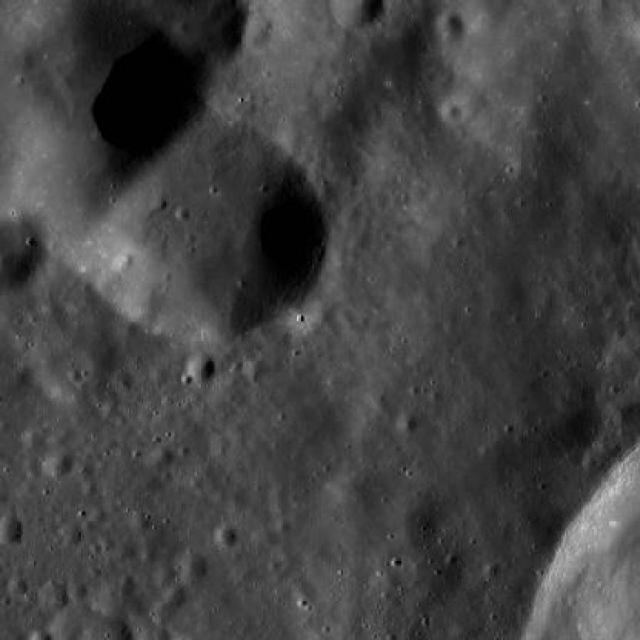crater: (82, 119, 321, 352), (0, 0, 225, 214), (0, 0, 198, 177), (206, 356, 346, 492), (30, 317, 119, 403), (176, 0, 250, 60), (96, 574, 142, 620), (327, 462, 373, 508), (464, 0, 517, 32), (333, 0, 382, 31), (183, 349, 217, 383), (178, 552, 208, 582), (39, 581, 70, 610), (434, 11, 464, 40), (273, 113, 302, 141), (43, 451, 71, 478), (0, 514, 23, 544), (244, 22, 270, 48), (148, 446, 174, 471), (108, 366, 134, 391), (152, 599, 177, 624), (152, 562, 177, 586), (554, 1, 578, 26), (166, 584, 188, 606), (228, 490, 250, 512), (310, 298, 332, 320), (216, 526, 237, 548), (73, 458, 95, 478), (242, 356, 264, 376), (346, 229, 368, 249), (618, 3, 640, 23), (68, 581, 88, 601), (63, 522, 83, 542), (131, 509, 151, 529), (139, 473, 159, 493), (271, 496, 291, 516), (369, 392, 389, 412), (8, 576, 28, 595), (440, 103, 460, 122), (118, 542, 138, 560), (398, 414, 417, 432), (22, 429, 40, 446), (269, 482, 288, 498), (83, 479, 100, 496), (90, 506, 108, 522), (483, 562, 500, 578), (116, 252, 133, 268), (99, 400, 115, 416), (0, 488, 9, 504)
